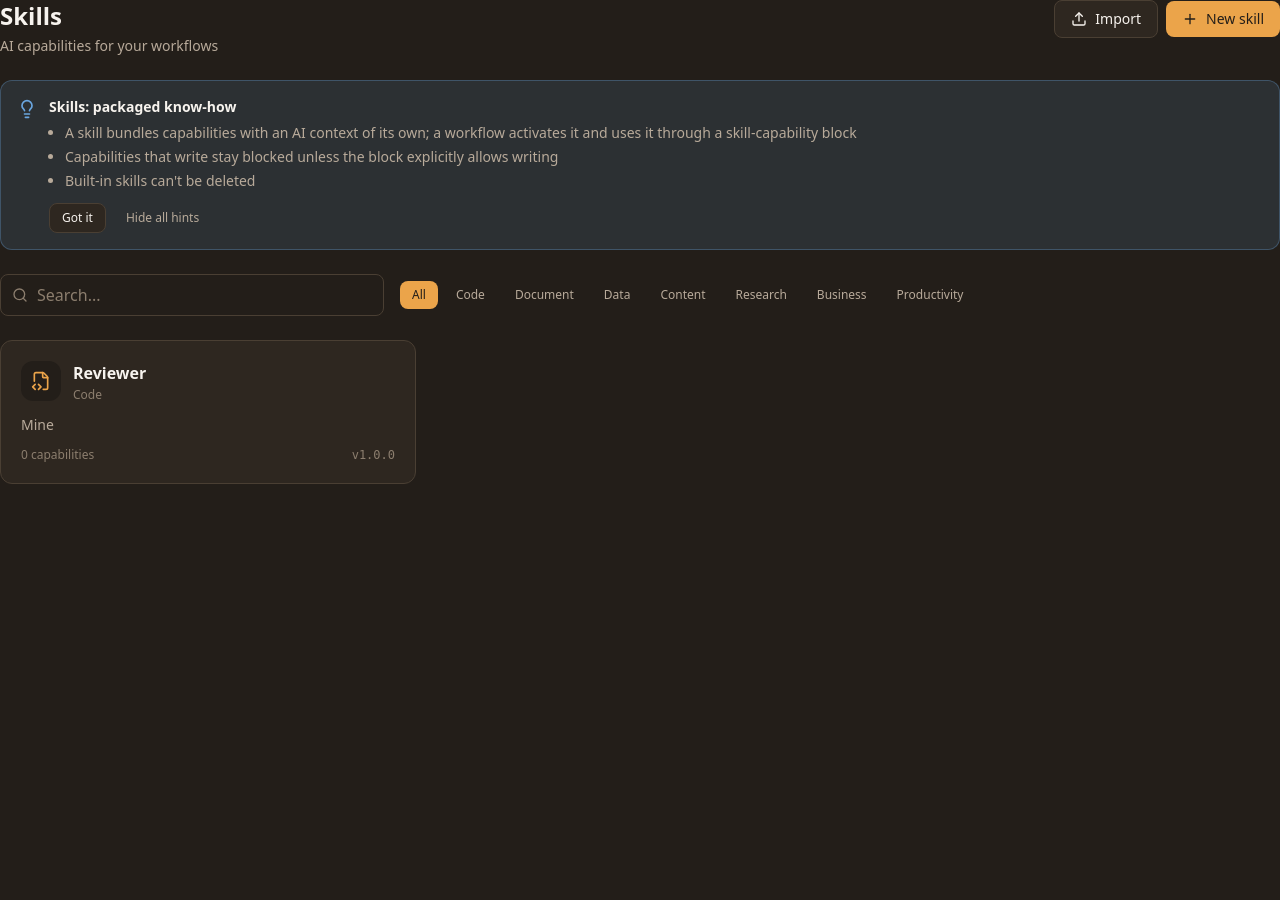
it: Skills page — seal lock › says seals are immutable when seal-immutable is on
Click the heading "Reviewer": click(110, 373) [73,361,146,385]
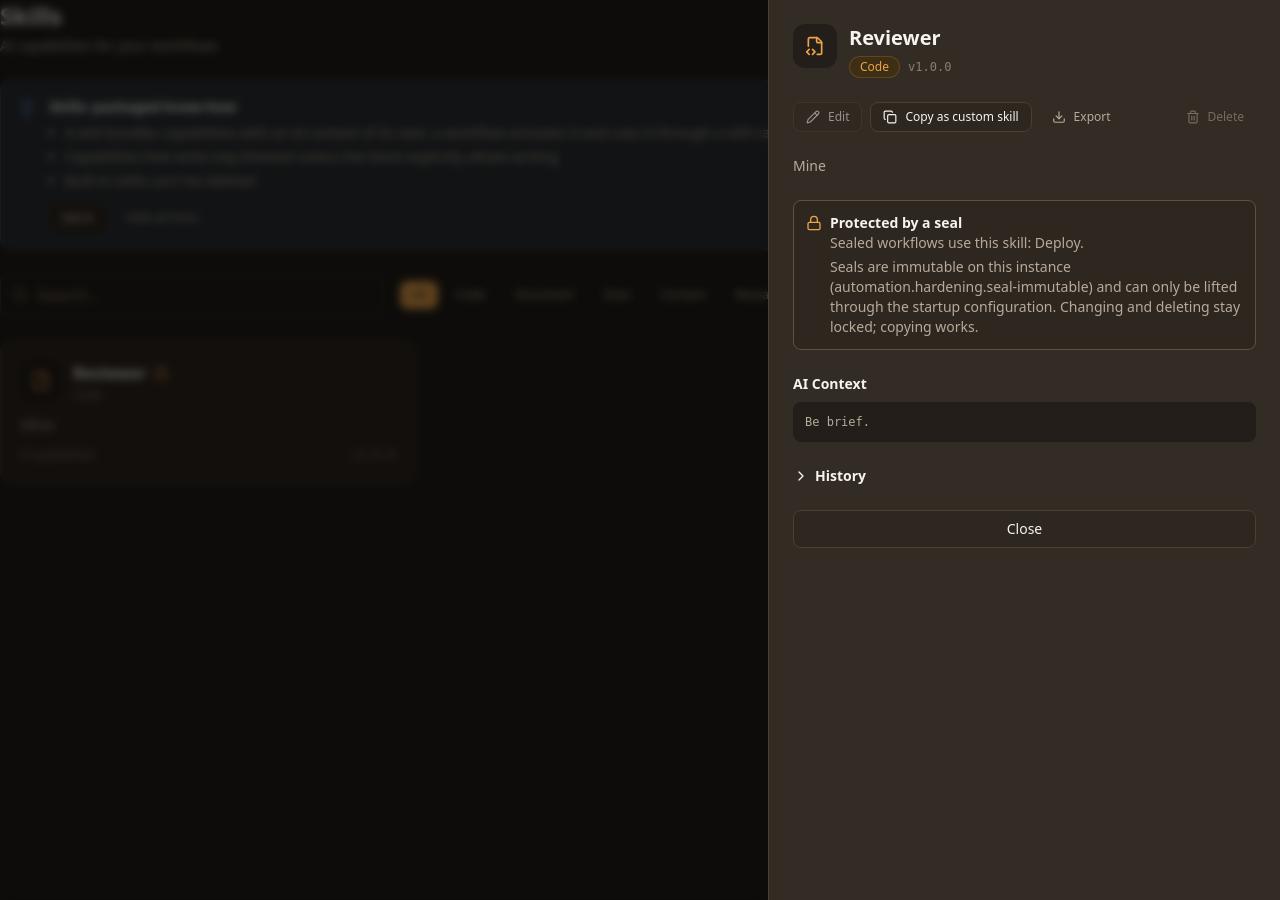
Expected: the text with test id "skill-sealed-way-out" shows "Seals are immutable", [830,257,1240,336]
